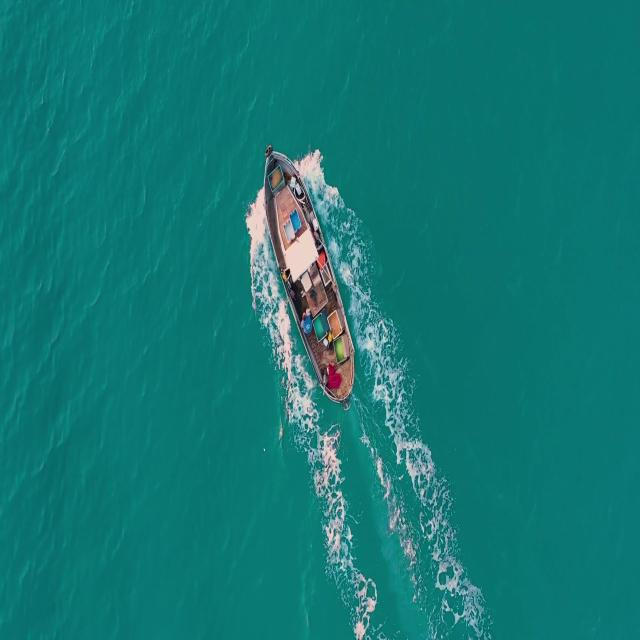ship: (260, 140, 362, 410)
